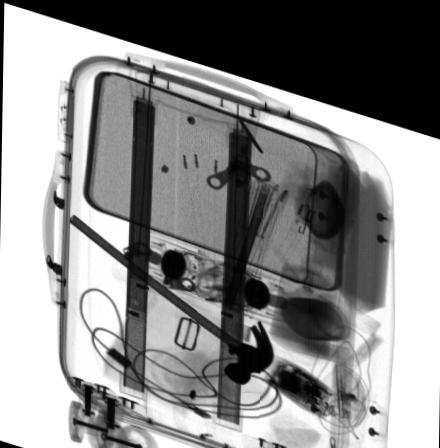Hammer: (68, 208, 274, 370)
